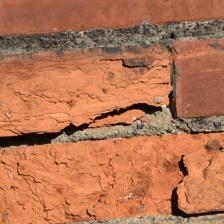Crack: (58, 96, 167, 137)
